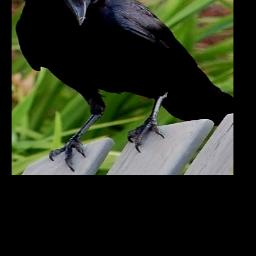Crow: (15, 0, 232, 173)
